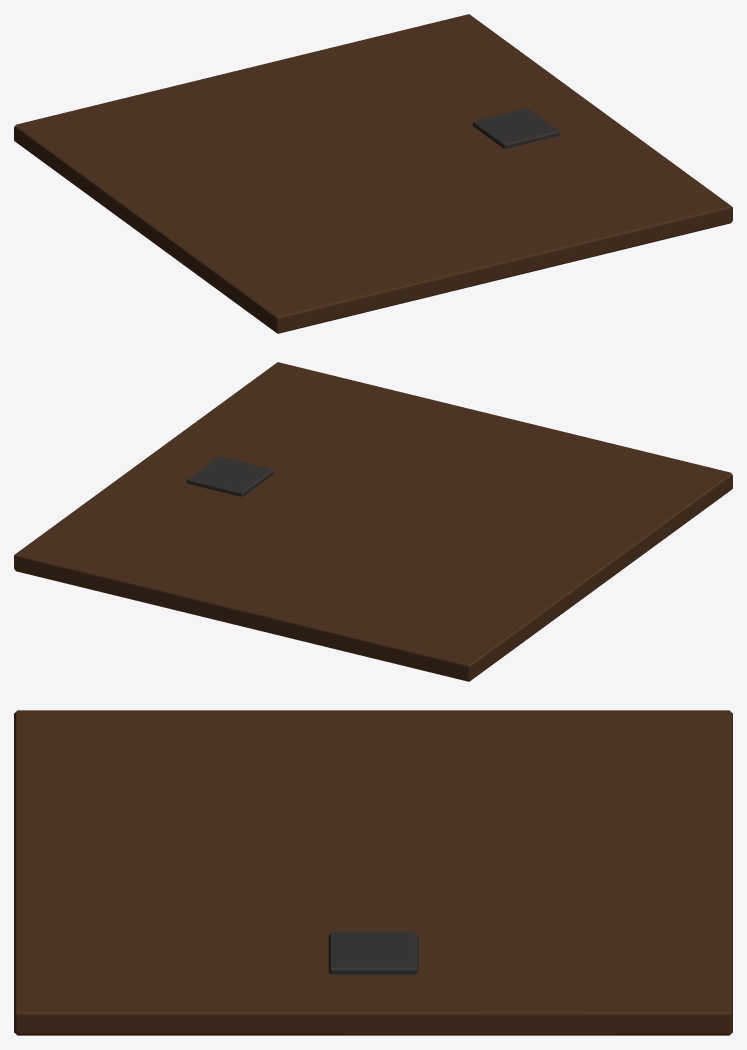
Rendered from hatch.d106a98e.glb.
The picture shows the model from 3 angles, top to bottom: view 1: azimuth 30°, elevation 25°; view 2: azimuth 150°, elevation 25°; view 3: azimuth 270°, elevation 25°; orthographic projection. The views are drawn at different scales.
Visible parts, largest first — view 1: body; view 2: body; view 3: body.
Boxes of the visible parts, x1,y1,x2,y2 form: body: [14, 14, 732, 333]; body: [14, 362, 732, 681]; body: [14, 710, 732, 1035].
Bounding box in the file's own units: 0.8 × 0.0375 × 0.8.
